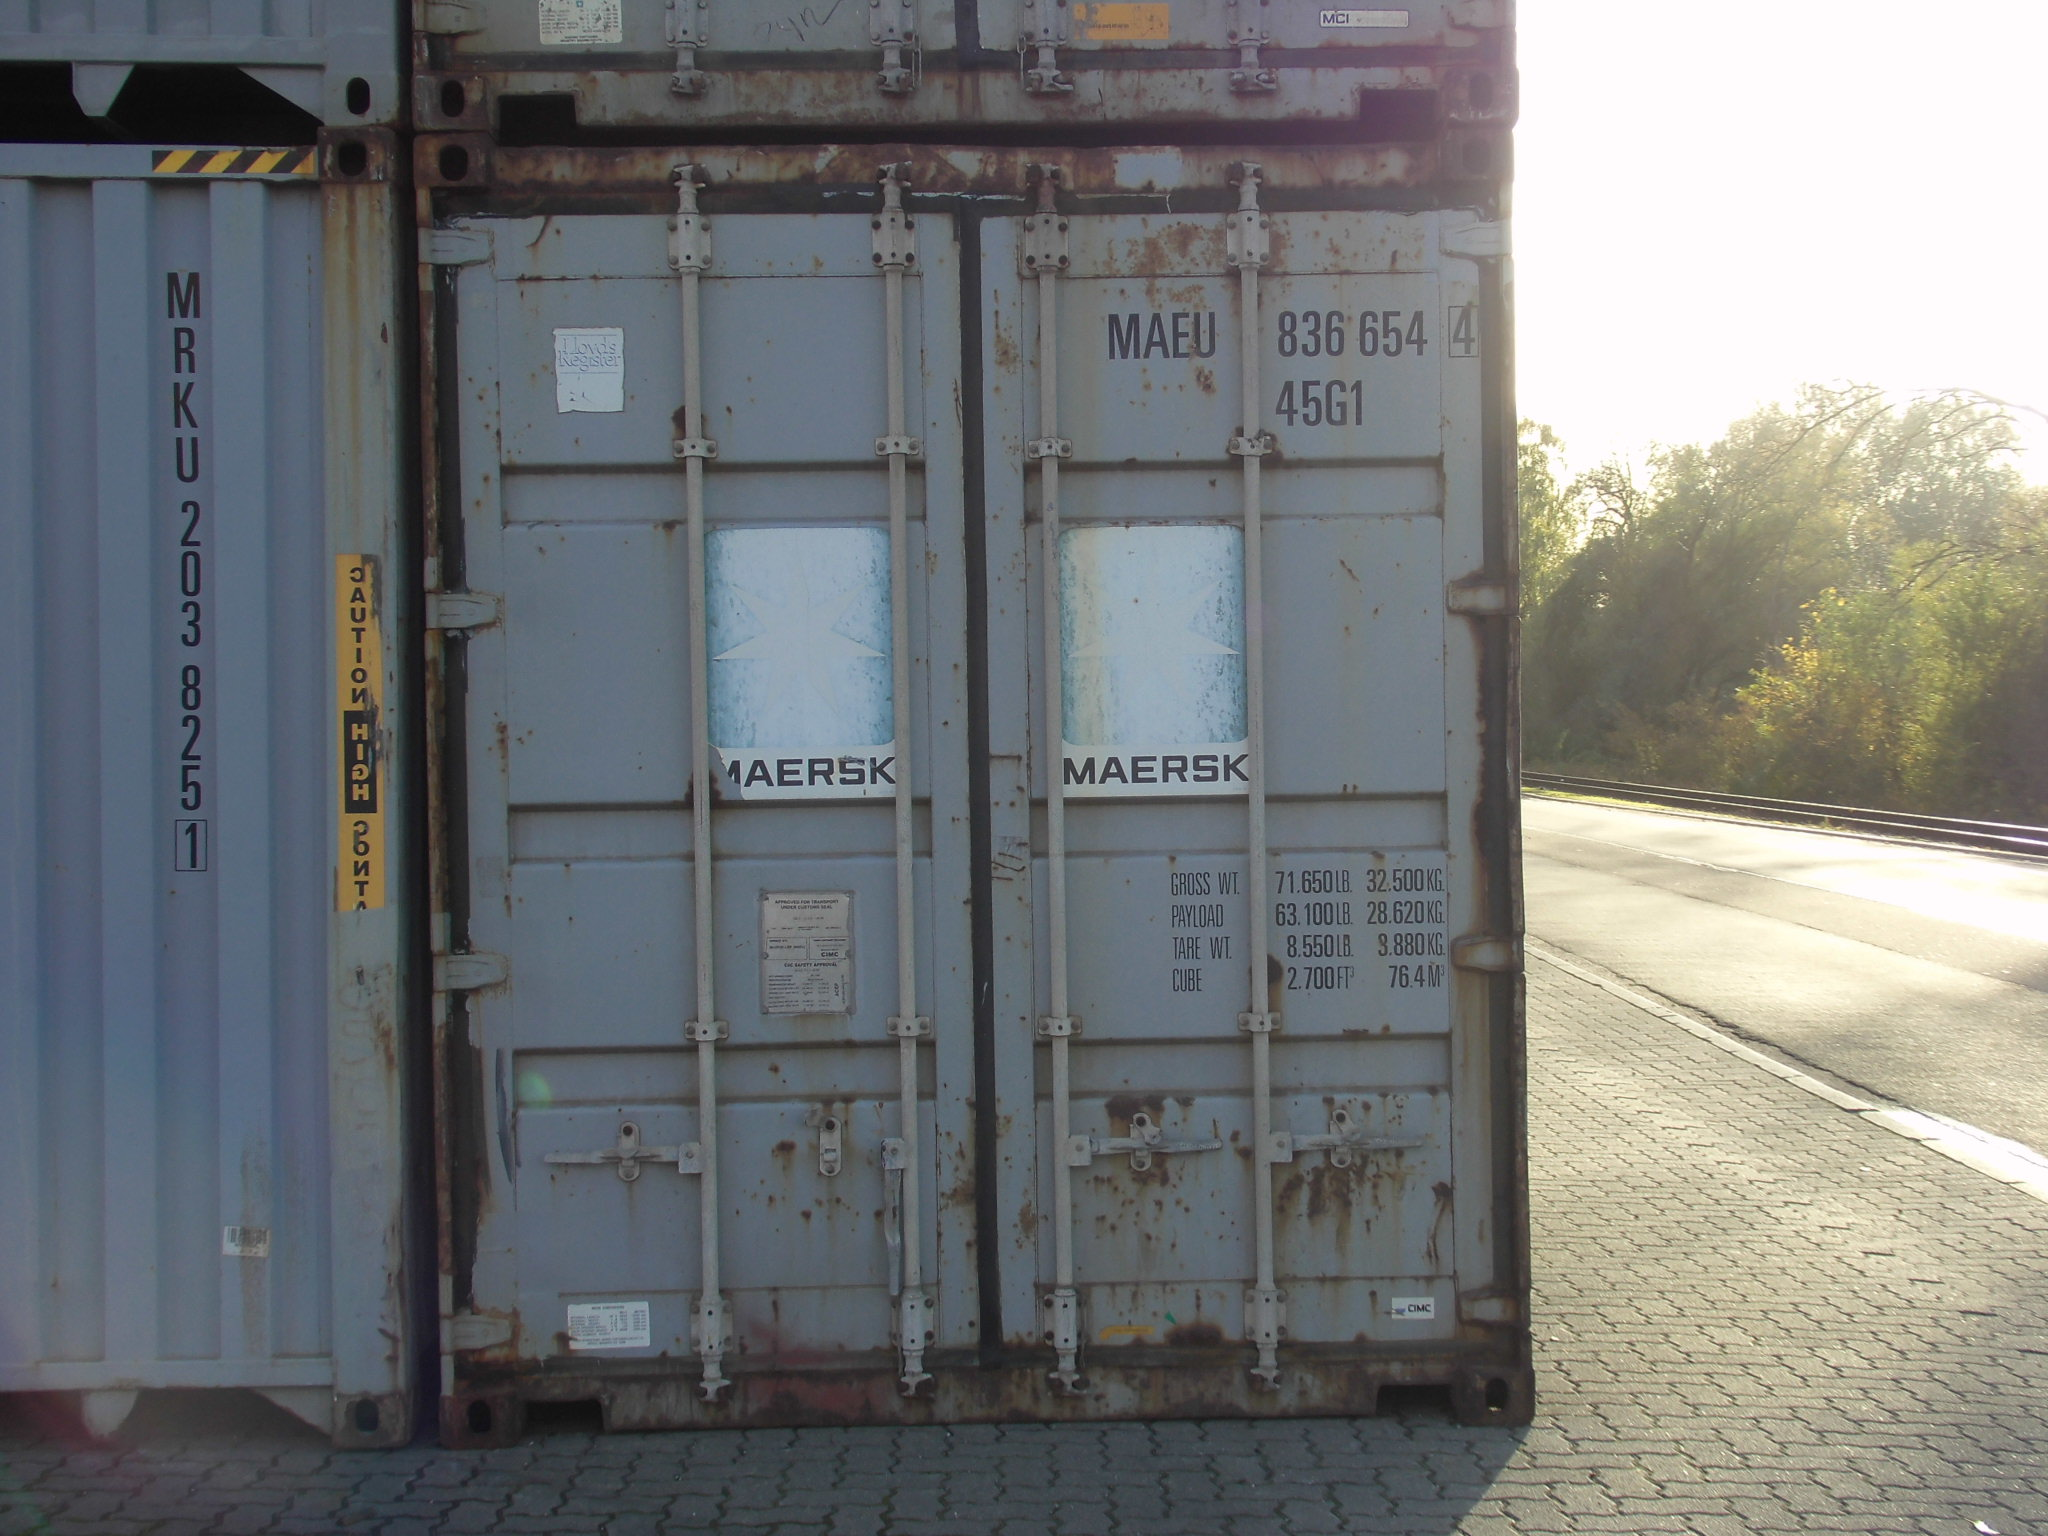container_door: (414, 152, 1530, 1426)
